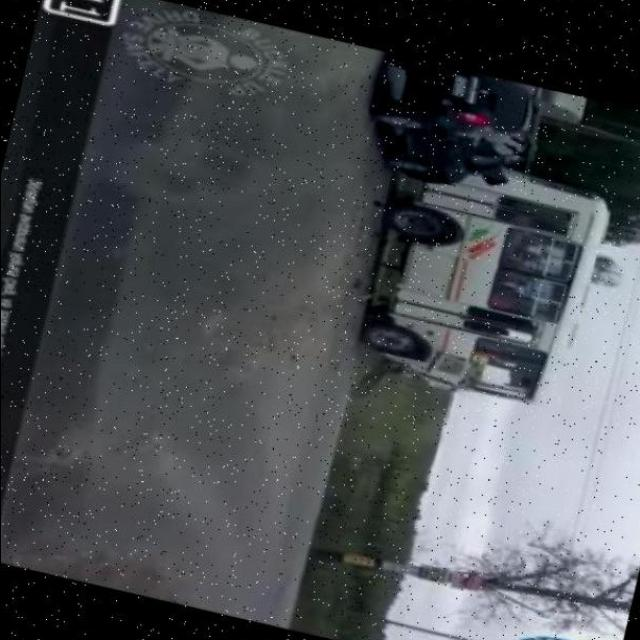accident: (308, 48, 638, 419)
